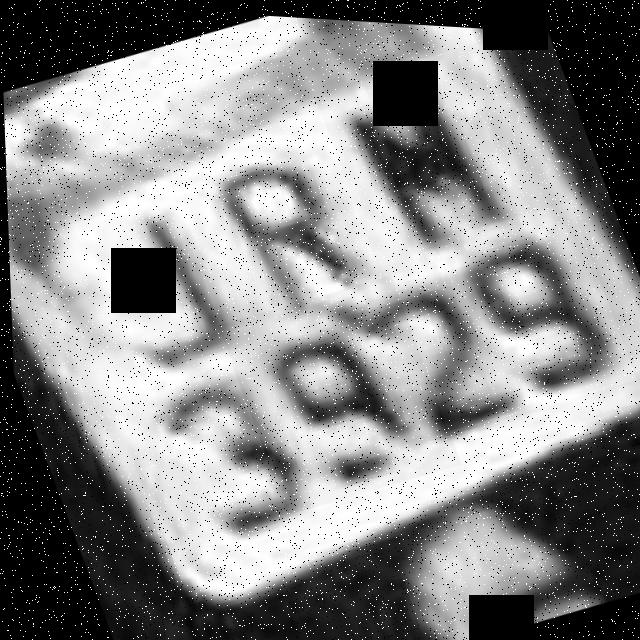2: (323, 236, 544, 470)
3: (99, 311, 347, 585)
9: (214, 262, 460, 518), (431, 187, 635, 419)
J: (48, 164, 266, 402)
N: (311, 38, 525, 279)
R: (179, 107, 393, 341)
